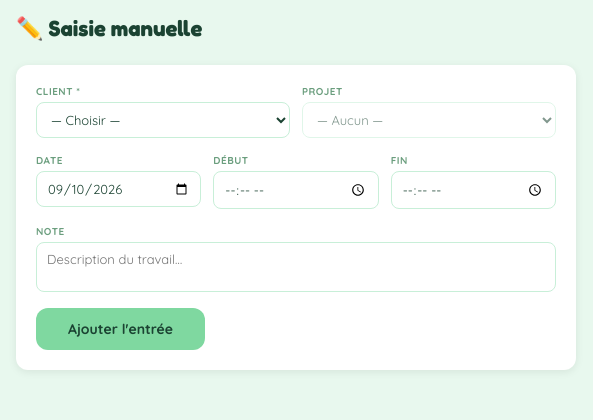
Scenario: Saisie › affiche une erreur si client non sélectionné
This screenshot has width=593, height=420.
Step 1. Click the button "Ajouter l'entrée" → (120, 329), box [36,308,205,350]
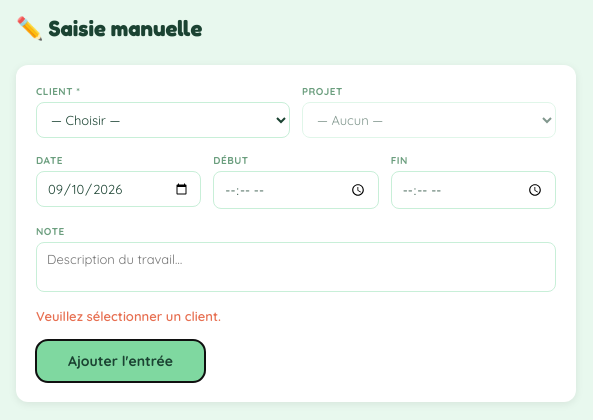
Check: the message shows "client", box [36,308,221,324]
